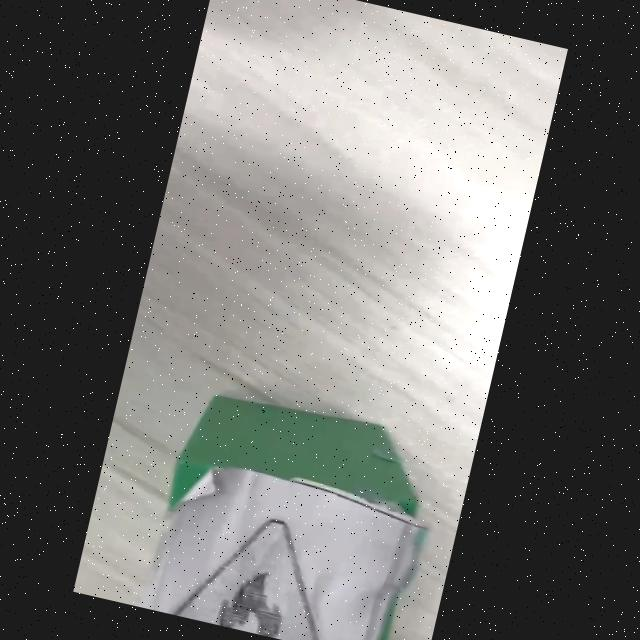Fire: (173, 519, 317, 640)
